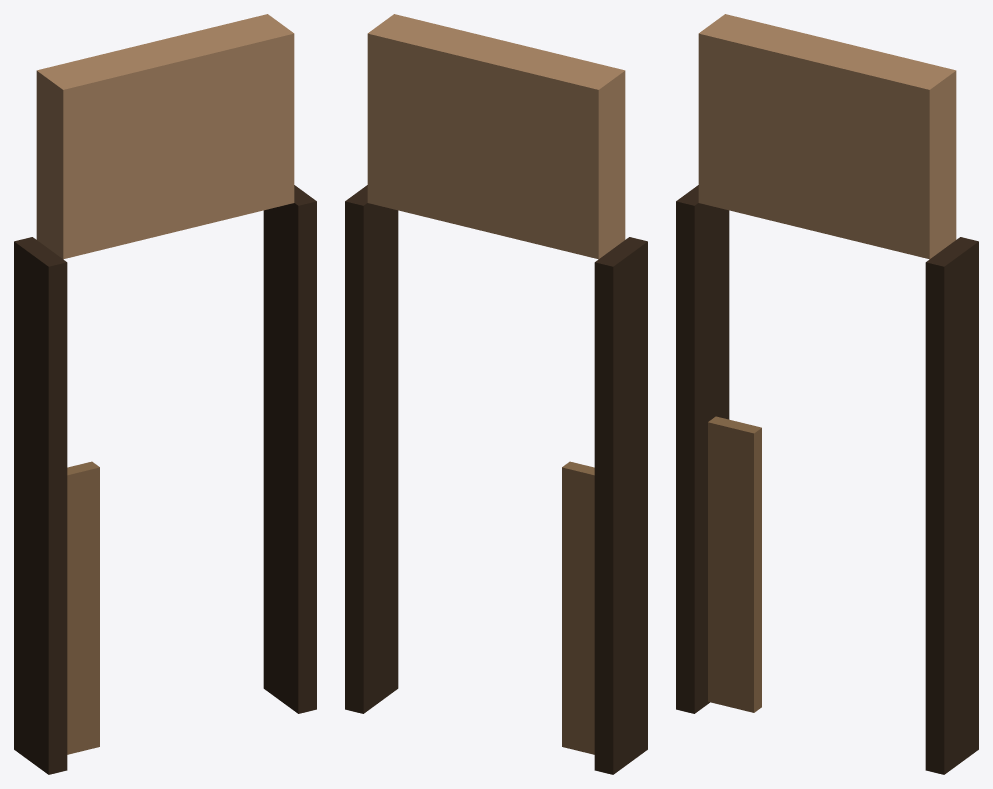
The model's file is ENV_Cabin_Door_A_Broken.glb.
3 renders of one model, left to right at view 1: azimuth 30°, elevation 25°; view 2: azimuth 150°, elevation 25°; view 3: azimuth 330°, elevation 25°, orthographic.
Visible parts, largest first — view 1: ENV_Cabin_Door_A_Broken_Lintel, ENV_Cabin_Door_A_Broken_Post0, ENV_Cabin_Door_A_Broken_Post1, ENV_Cabin_Door_A_Broken_Stub; view 2: ENV_Cabin_Door_A_Broken_Lintel, ENV_Cabin_Door_A_Broken_Post0, ENV_Cabin_Door_A_Broken_Post1, ENV_Cabin_Door_A_Broken_Stub; view 3: ENV_Cabin_Door_A_Broken_Lintel, ENV_Cabin_Door_A_Broken_Post1, ENV_Cabin_Door_A_Broken_Post0, ENV_Cabin_Door_A_Broken_Stub.
Part boxes in pixels (box(x1,y1,x2,y2)): ENV_Cabin_Door_A_Broken_Lintel: box(36, 14, 294, 259); ENV_Cabin_Door_A_Broken_Post0: box(14, 237, 67, 774); ENV_Cabin_Door_A_Broken_Post1: box(263, 185, 316, 713); ENV_Cabin_Door_A_Broken_Stub: box(67, 461, 99, 754); ENV_Cabin_Door_A_Broken_Lintel: box(367, 14, 625, 259); ENV_Cabin_Door_A_Broken_Post0: box(594, 237, 647, 774); ENV_Cabin_Door_A_Broken_Post1: box(345, 185, 398, 713); ENV_Cabin_Door_A_Broken_Stub: box(562, 461, 594, 754); ENV_Cabin_Door_A_Broken_Lintel: box(698, 14, 956, 259); ENV_Cabin_Door_A_Broken_Post1: box(925, 237, 978, 774); ENV_Cabin_Door_A_Broken_Post0: box(676, 185, 729, 713); ENV_Cabin_Door_A_Broken_Stub: box(708, 416, 761, 712).
Size of the model in its own units: 1.16 by 2.8 by 0.26.
